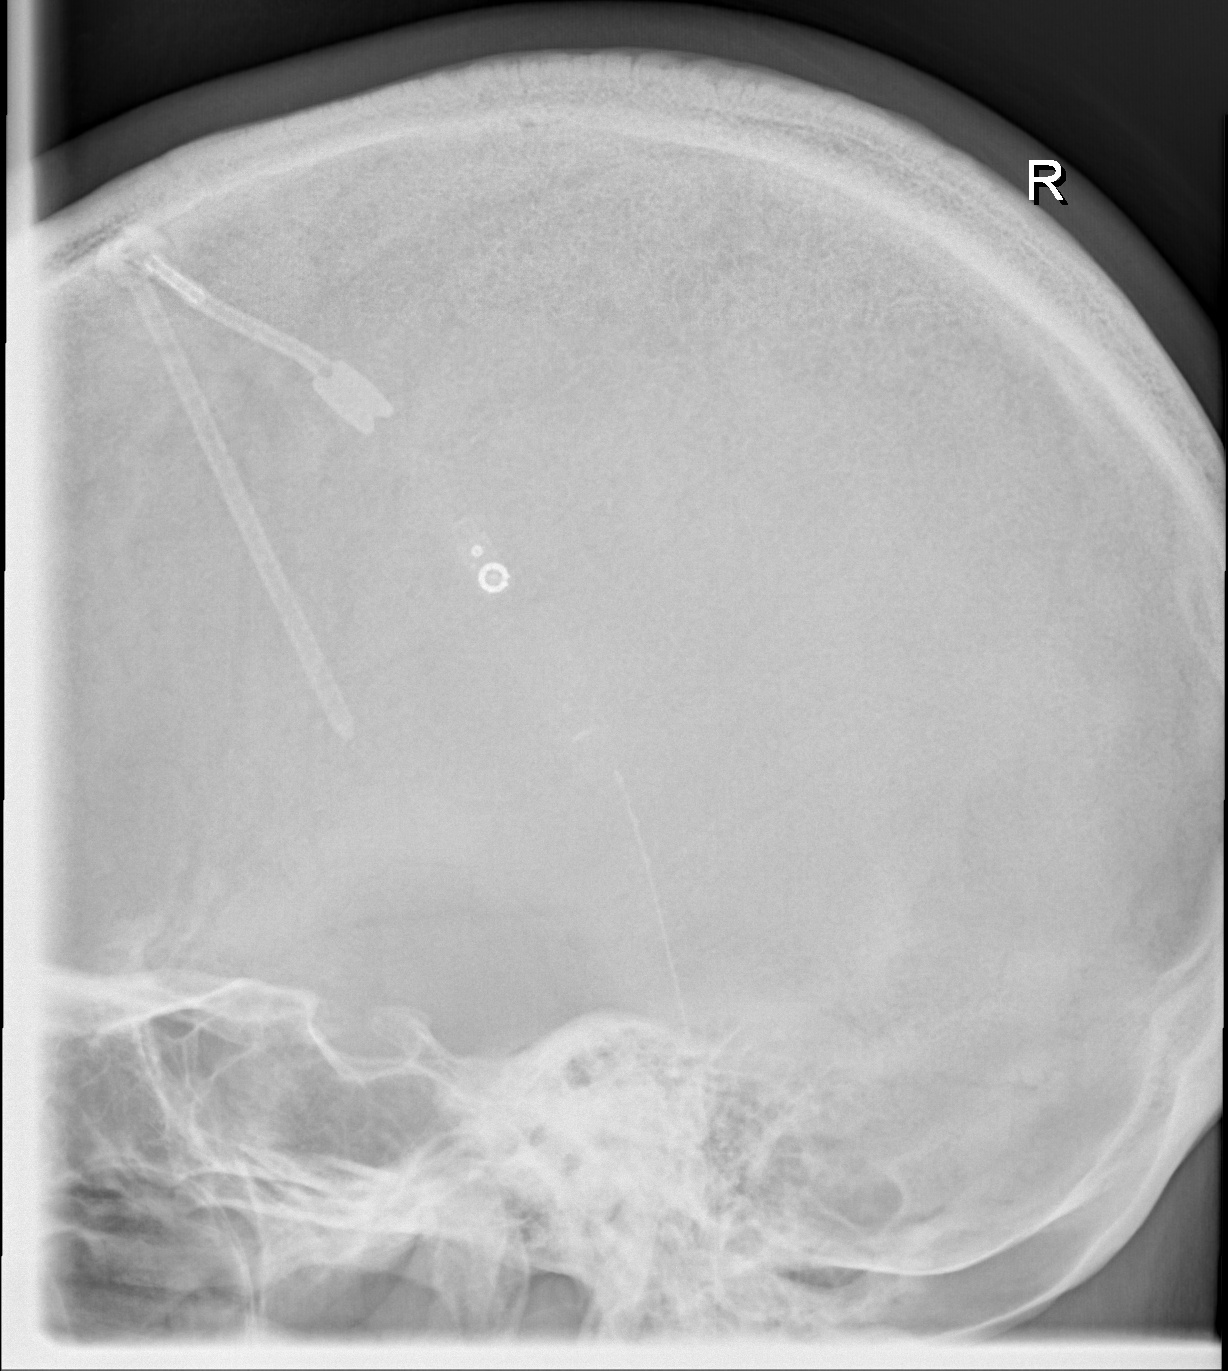Codman Hakim: (446, 526, 523, 615)
